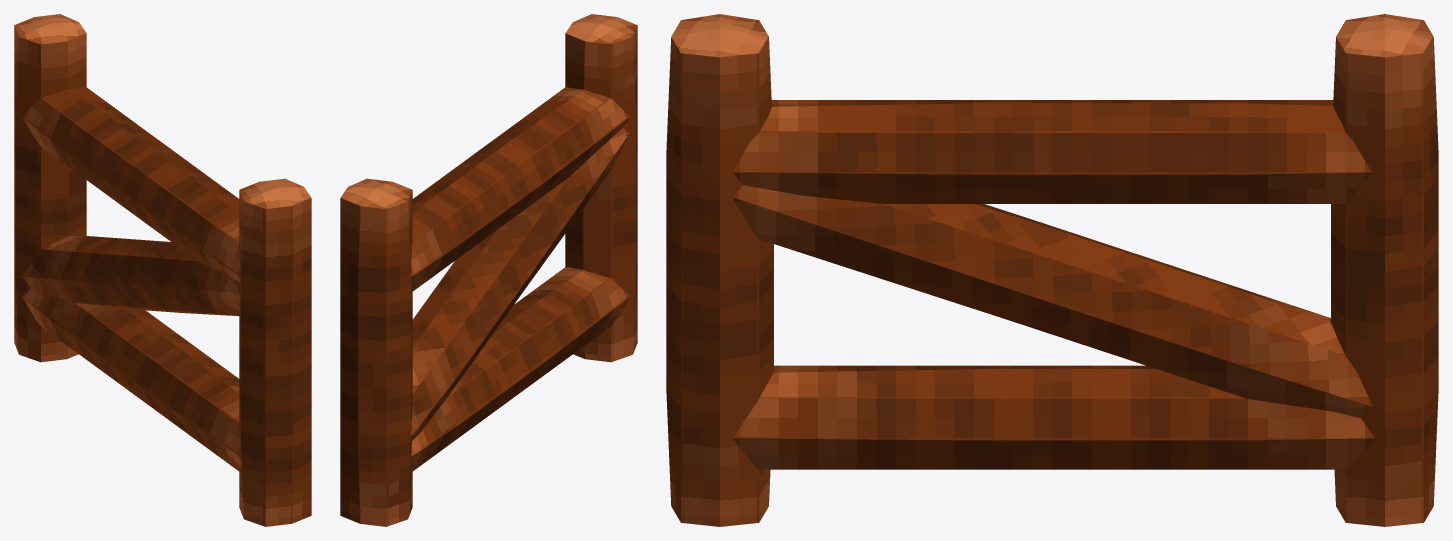
Rendered from fence.glb.
3 views of the same model, side by side, from view 1: azimuth 30°, elevation 25°; view 2: azimuth 150°, elevation 25°; view 3: azimuth 270°, elevation 25° (orthographic). The views are drawn at different scales.
Parts seen in each view (by area): view 1: cuboid_0; view 2: cuboid_0; view 3: cuboid_0.
Boxes of the visible parts, x1,y1,x2,y2 form: cuboid_0: [14, 14, 311, 526]; cuboid_0: [340, 14, 637, 526]; cuboid_0: [666, 14, 1438, 526].
Size of the model in its own units: 0.3594 by 1.75 by 2.47.
Materials: 1 (1 with a texture image).
